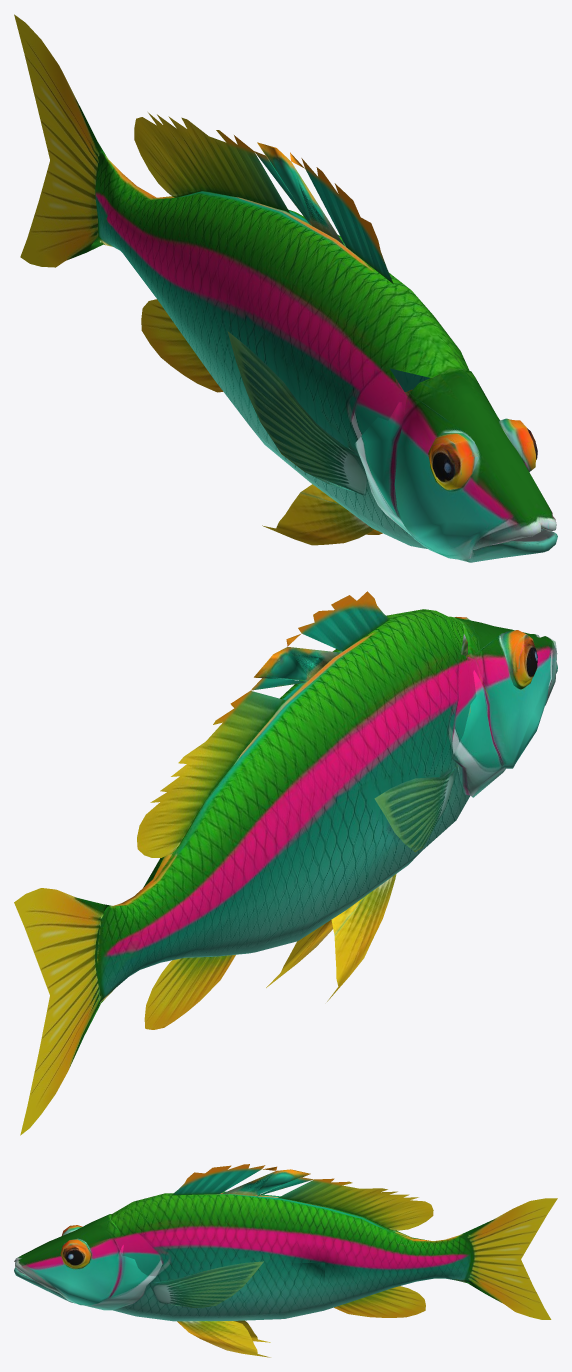
File: wrasse.glb
3 views of the same model, one above another, from view 1: azimuth 30°, elevation 25°; view 2: azimuth 150°, elevation 25°; view 3: azimuth 270°, elevation 25° (orthographic). The views are drawn at different scales.
Bounding box in the file's own units: 0.1538 × 0.3628 × 0.9561.
1 material, 1 textured.
